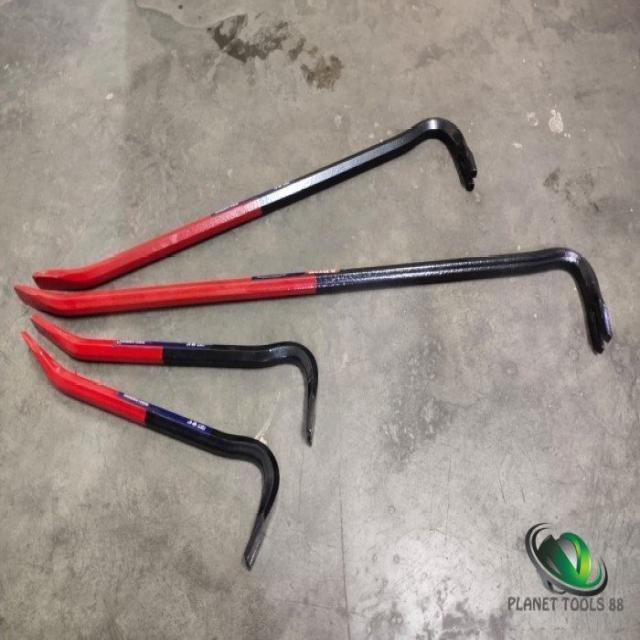Linggis: (11, 224, 640, 370), (26, 106, 488, 286), (3, 327, 290, 576), (28, 318, 330, 450)
